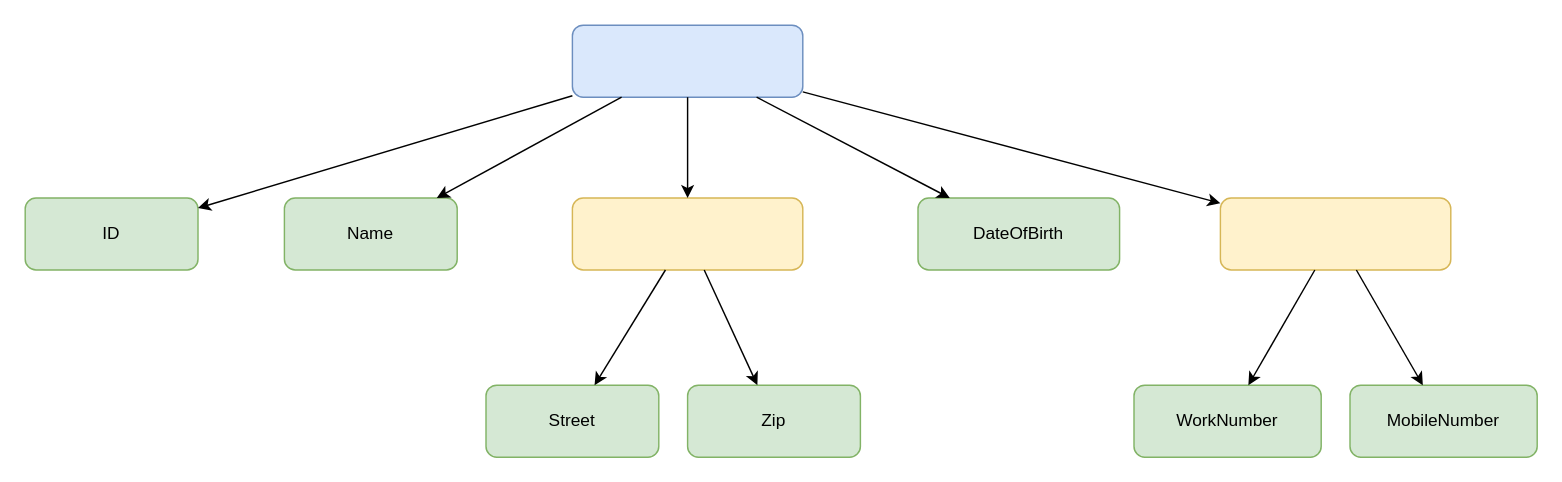
Some shapes in this 1562 by 482 pixel diagram are drawn without their labels. Each missing label, with the box of its shape:
Address: (571, 197, 803, 270)
Customer: (571, 24, 803, 97)
TelephoneNumber: (1219, 197, 1451, 270)
